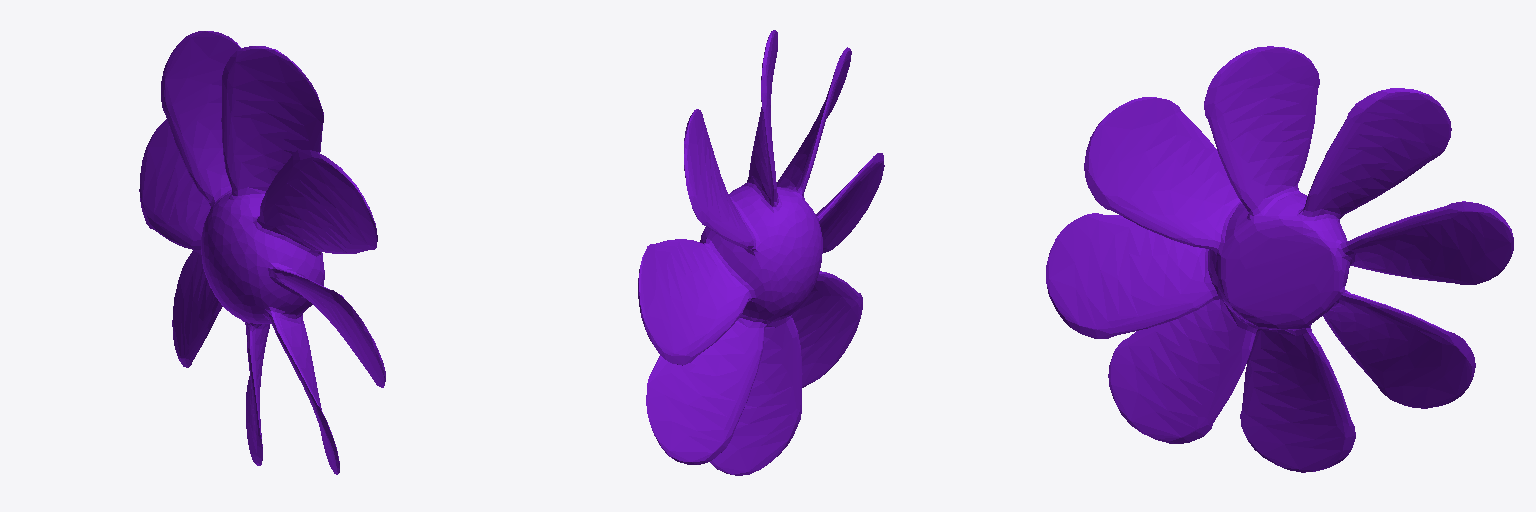
3 renders of one model, left to right at view 1: azimuth 30°, elevation 25°; view 2: azimuth 150°, elevation 25°; view 3: azimuth 270°, elevation 25°, orthographic.
Parts seen in each view (by area): view 1: Sphere; view 2: Sphere; view 3: Sphere.
Boxes of the visible parts, <box> form: Sphere: <box>139,31,385,474</box>; Sphere: <box>638,30,884,475</box>; Sphere: <box>1046,46,1513,472</box>.
Bounding box in the file's own units: 0.5742 × 2.77 × 2.77.
1 materials, 1 textured.